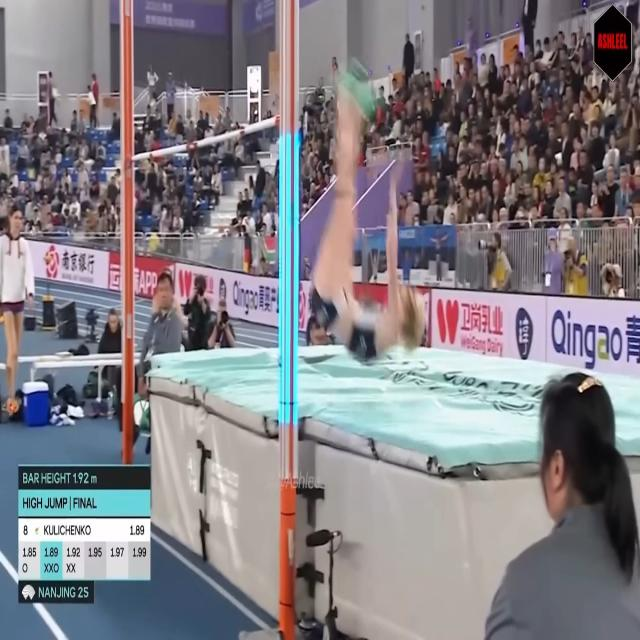land: (311, 66, 427, 356)
